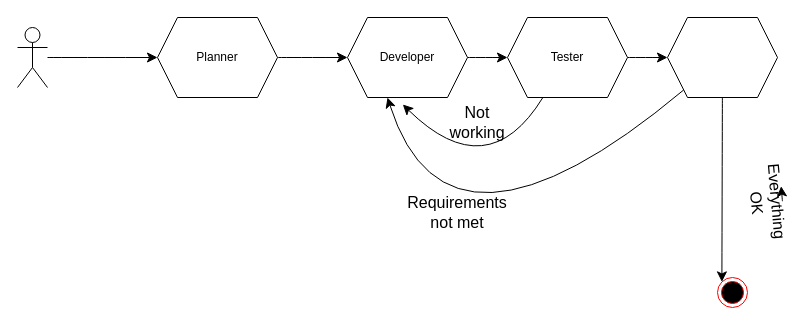
Image size: 807x325. Some labels were removed from this diagram. The box of each missing label's shape, as (x1, y1, x2, y2) in pixels:
Actor: (16, 26, 48, 88)
Observer: (666, 16, 778, 98)
